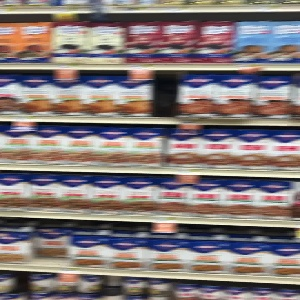void: (150, 69, 180, 119)
